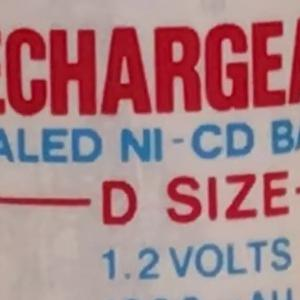keyword: (104, 113, 264, 197)
